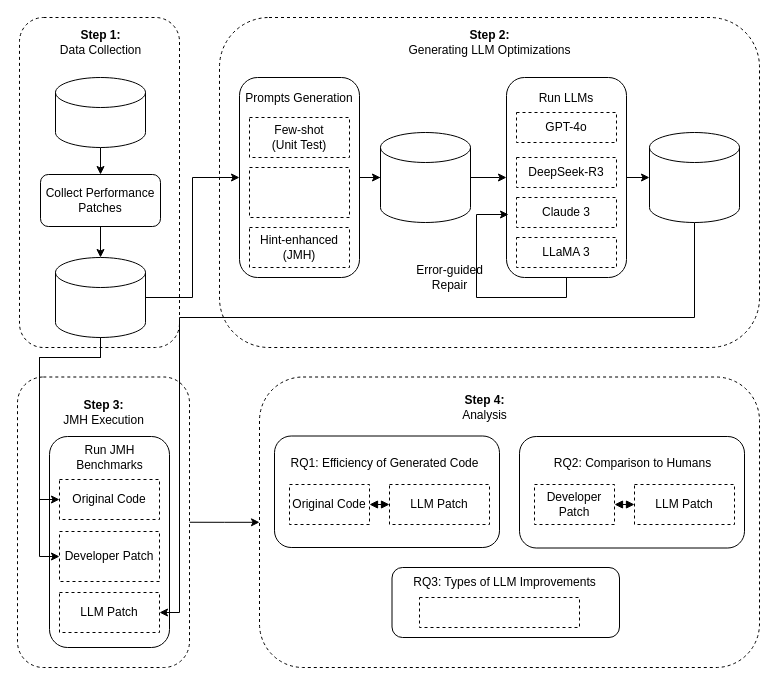
The diagram is 777 pixels wide and 692 high, and some of its shapes have lost their labels. Each missing label, with the centre of its shape:
Hint-enhanced (Perf Issue): (x=299, y=192)
Java Projects: (x=100, y=112)
LLM Patches (xx patches): (x=694, y=177)
PerfOpt Dataset (xx tasks): (x=100, y=297)
Prompt Combinations (xx prompts): (x=425, y=177)
Qualitative Analysis: (x=499, y=612)
